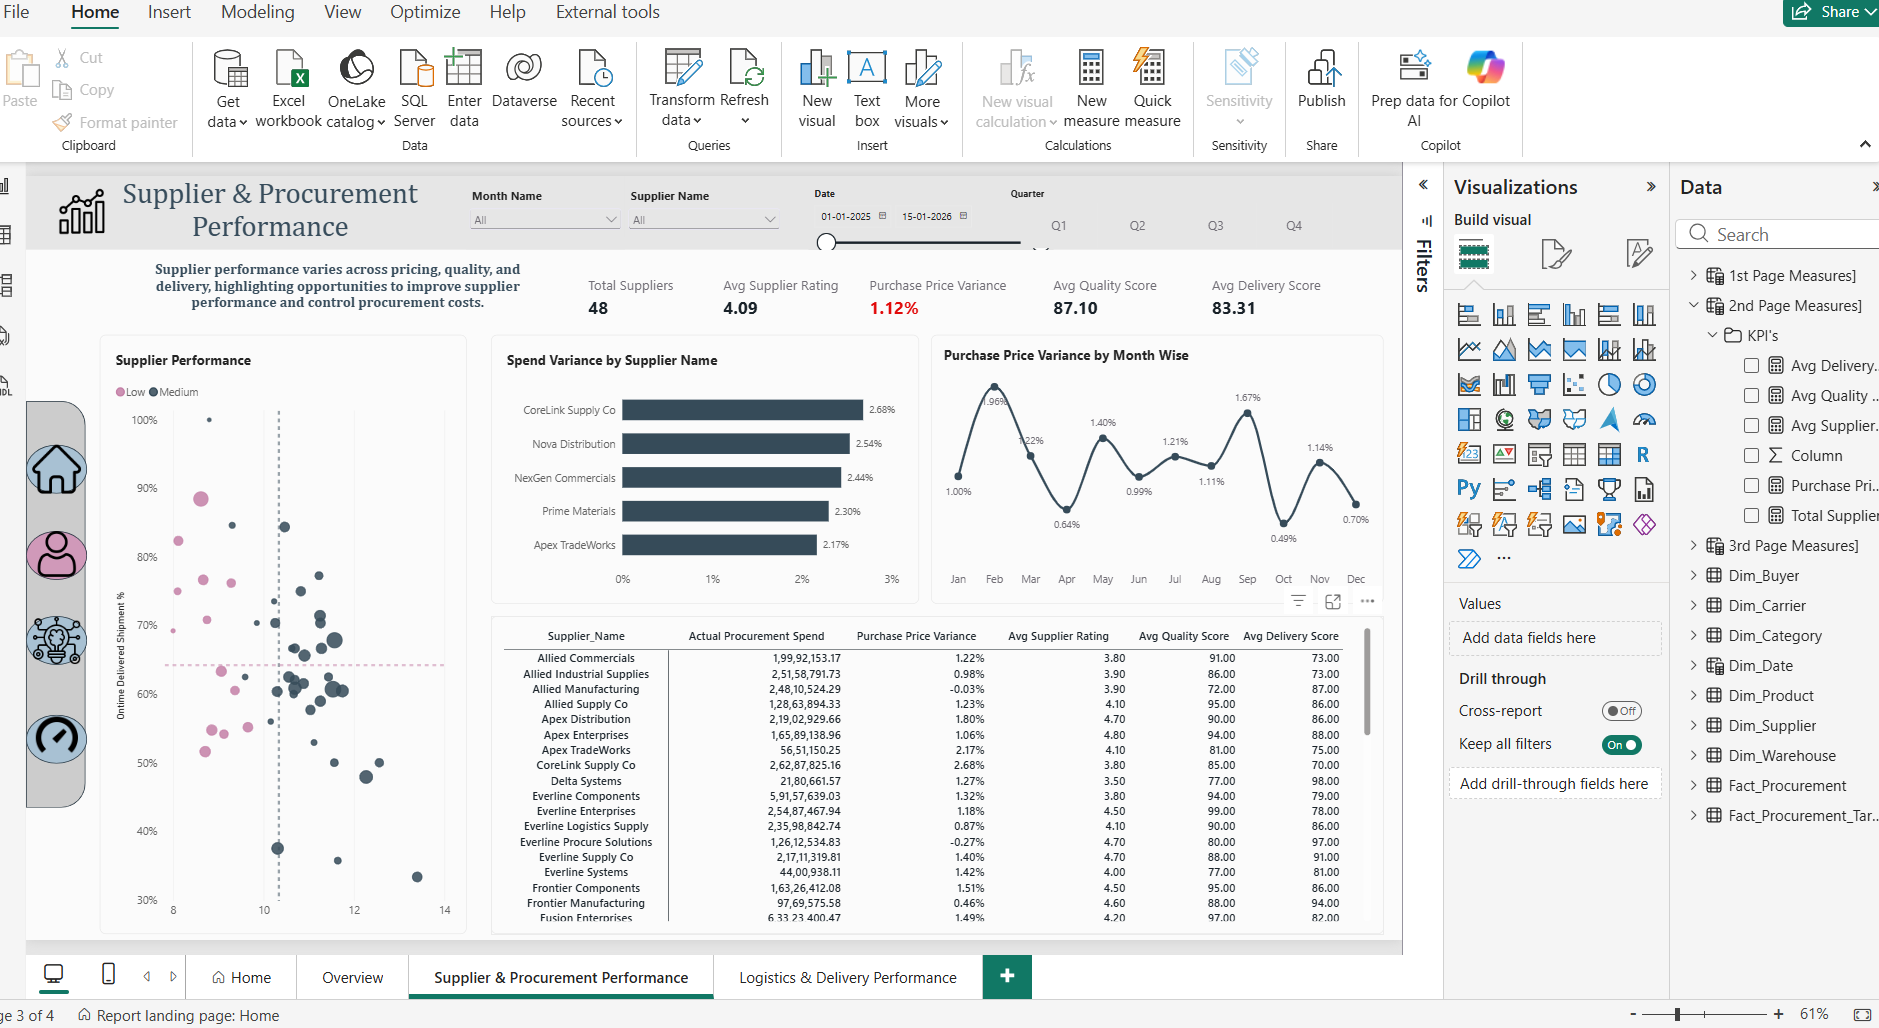

The page's visual inventory and layout, read from the dashboard file:
{"tool":"powerbi","page":{"name":"Supplier & Procurement Performance","canvas":[1800,1000],"ordinal":2},"visuals":[{"type":"shape","box":[-8,0,1808,96],"z":0},{"type":"shape","box":[0,295,78,532],"z":1000},{"type":"textbox","box":[112,0,416,96],"z":2000},{"type":"textbox","box":[144,112,528,80],"z":3000},{"type":"shape","box":[0,352,80,64],"z":4000},{"type":"shape","box":[0,464,80,64],"z":5000},{"type":"shape","box":[0,576,80,64],"z":6000},{"type":"shape","box":[0,704,80,64],"z":7000},{"type":"image","box":[32,16,80,60],"z":8000},{"type":"image","box":[0,464,80,60],"z":9000},{"type":"image","box":[0,576,80,64],"z":10000},{"type":"image","box":[0,704,80,60],"z":11000},{"type":"cardVisual","fields":{"Data":["2nd Page Measures].Total Suppliers"]},"box":[720,112,144,96],"z":12000},{"type":"cardVisual","fields":{"Data":["2nd Page Measures].Avg Supplier Rating"]},"box":[896,112,192,96],"z":13000},{"type":"cardVisual","fields":{"Data":["2nd Page Measures].Purchase Price Variance"]},"box":[1088,112,224,96],"z":14000},{"type":"cardVisual","fields":{"Data":["2nd Page Measures].Avg Quality Score"]},"box":[1328,112,176,96],"z":15000},{"type":"cardVisual","fields":{"Data":["2nd Page Measures].Avg Delivery Score"]},"box":[1536,112,208,96],"z":16000},{"type":"image","box":[0,352,80,64],"z":17000},{"type":"clusteredBarChart","title":"Spend Variance by Supplier Name","fields":{"Y":["2nd Page Measures].Purchase Price Variance"],"Category":["Dim_Supplier.Supplier_Name"]},"box":[608,208,560,352],"z":18000},{"type":"slicer","title":"Month ","fields":{"Values":["Dim_Date.Month_Name"]},"box":[576,0,208,96],"z":19000},{"type":"slicer","title":"Month ","fields":{"Values":["Dim_Supplier.Supplier_Name"]},"box":[784,0,208,80],"z":20000},{"type":"slicer","title":"Month ","fields":{"Values":["Dim_Date.Date"]},"box":[1024,0,320,96],"z":21000},{"type":"slicer","fields":{"Values":["Dim_Date.Quarter"]},"box":[1280,0,448,96],"z":22000},{"type":"lineChart","title":"Purchase Price Variance by Month Wise","fields":{"Category":["Dim_Date.Month_Name"],"Y":["2nd Page Measures].Purchase Price Variance"]},"box":[1184,208,592,352],"z":23000},{"type":"scatterChart","title":"Supplier Performance","fields":{"X":["1st Page Measures].Avg lead time"],"Y":["1st Page Measures].Ontime Delivered Shipment %"],"Category":["Dim_Supplier.Supplier_Name"],"Series":["Dim_Supplier.Risk_Level"],"Size":["1st Page Measures].Actual Procurement Spend"]},"box":[96,208,480,784],"z":24000},{"type":"pivotTable","fields":{"Rows":["Dim_Supplier.Supplier_Name"],"Values":["1st Page Measures].Actual Procurement Spend","2nd Page Measures].Purchase Price Variance","2nd Page Measures].Avg Supplier Rating","2nd Page Measures].Avg Quality Score","2nd Page Measures].Avg Delivery Score"]},"box":[608,576,1168,416],"z":25000}]}

Visuals, with their boxes on the page's 1800x1000 design canvas (x1, y1, x2, y2). These are canvas units, not pixel positions in the 1879x1028 screenshot, which may show the page scaled, cropped or inside an application window:
shape: {"x1": -8, "y1": 0, "x2": 1800, "y2": 96}
shape: {"x1": 0, "y1": 295, "x2": 78, "y2": 827}
textbox: {"x1": 112, "y1": 0, "x2": 528, "y2": 96}
textbox: {"x1": 144, "y1": 112, "x2": 672, "y2": 192}
shape: {"x1": 0, "y1": 352, "x2": 80, "y2": 416}
shape: {"x1": 0, "y1": 464, "x2": 80, "y2": 528}
shape: {"x1": 0, "y1": 576, "x2": 80, "y2": 640}
shape: {"x1": 0, "y1": 704, "x2": 80, "y2": 768}
image: {"x1": 32, "y1": 16, "x2": 112, "y2": 76}
image: {"x1": 0, "y1": 464, "x2": 80, "y2": 524}
image: {"x1": 0, "y1": 576, "x2": 80, "y2": 640}
image: {"x1": 0, "y1": 704, "x2": 80, "y2": 764}
cardVisual - 2nd Page Measures].Total Suppliers: {"x1": 720, "y1": 112, "x2": 864, "y2": 208}
cardVisual - 2nd Page Measures].Avg Supplier Rating: {"x1": 896, "y1": 112, "x2": 1088, "y2": 208}
cardVisual - 2nd Page Measures].Purchase Price Variance: {"x1": 1088, "y1": 112, "x2": 1312, "y2": 208}
cardVisual - 2nd Page Measures].Avg Quality Score: {"x1": 1328, "y1": 112, "x2": 1504, "y2": 208}
cardVisual - 2nd Page Measures].Avg Delivery Score: {"x1": 1536, "y1": 112, "x2": 1744, "y2": 208}
image: {"x1": 0, "y1": 352, "x2": 80, "y2": 416}
"Spend Variance by Supplier Name" clusteredBarChart: {"x1": 608, "y1": 208, "x2": 1168, "y2": 560}
"Month " slicer: {"x1": 576, "y1": 0, "x2": 784, "y2": 96}
"Month " slicer: {"x1": 784, "y1": 0, "x2": 992, "y2": 80}
"Month " slicer: {"x1": 1024, "y1": 0, "x2": 1344, "y2": 96}
slicer - Dim_Date.Quarter: {"x1": 1280, "y1": 0, "x2": 1728, "y2": 96}
"Purchase Price Variance by Month Wise" lineChart: {"x1": 1184, "y1": 208, "x2": 1776, "y2": 560}
"Supplier Performance" scatterChart: {"x1": 96, "y1": 208, "x2": 576, "y2": 992}
pivotTable - Dim_Supplier.Supplier_Name x 1st Page Measures].Actual Procurement Spend: {"x1": 608, "y1": 576, "x2": 1776, "y2": 992}
